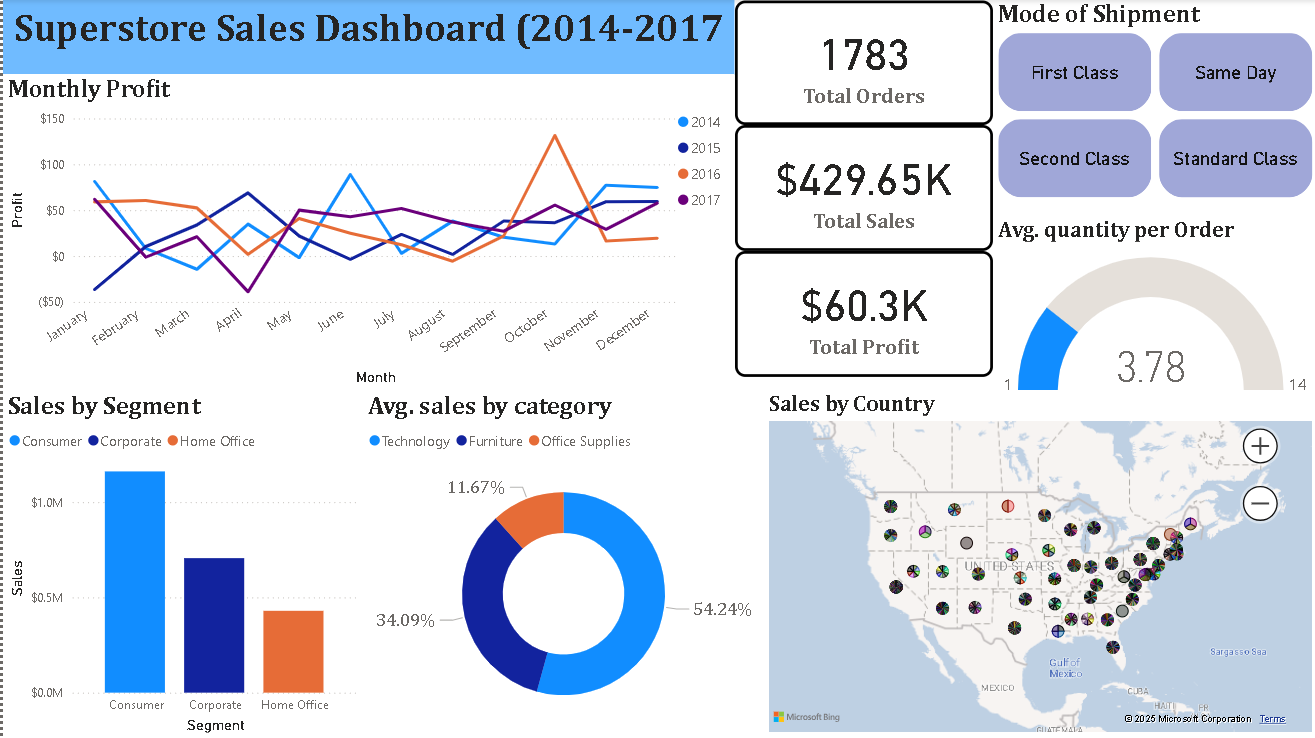

Layout of this report page (visuals, bound fields, positions):
{"tool":"tableau","page":{"name":"Dashboard 1","canvas":[1000,1000],"units":"permille","ordinal":0},"visuals":[{"type":"image","param":"C:/Users/user/Downloads/img2.png","box":[4.4,2.4,69,122.2]},{"type":"text","box":[81,29.3,388,72.1]},{"type":"worksheet","title":"Sheet 3","mark":"Area","rows":["QUANTITYORDERED"],"cols":["PRODUCTLINE"],"box":[644.9,147.9,332.9,359.4]},{"type":"worksheet","title":"Sheet 2","mark":"Bar","rows":["SALES"],"cols":["PRODUCTLINE"],"box":[1.9,156.5,339.9,380.2]},{"type":"worksheet","title":"Sheet 5","mark":"Pie","box":[342.4,156.5,271.5,374.1]},{"type":"legend","title":"Sheet 5","param":"[federated.0mjarep09fe74p18wxs9s0g3njy8].[none:PRODUCTLINE:nk]","box":[560.8,319.1,68.4,266.5]},{"type":"worksheet","title":"Sheet 4","mark":"Multipolygon","box":[646.8,542.8,332.9,382.6]},{"type":"worksheet","title":"Sheet 1","mark":"Line","rows":["SALES"],"cols":["MONTH_ID"],"box":[1.9,562.4,590.5,432.8]}]}

Visuals, with their boxes on the dashboard's canvas, which has no fixed pixel size, in thousandths of its width and height (x1, y1, x2, y2). These are canvas units, not pixel positions in the 1315x738 screenshot, which may show the page scaled, cropped or inside an application window:
image: [left=4, top=2, right=73, bottom=125]
text: [left=81, top=29, right=469, bottom=101]
"Sheet 3" worksheet (Area marks): [left=645, top=148, right=978, bottom=507]
"Sheet 2" worksheet (Bar marks): [left=2, top=156, right=342, bottom=537]
"Sheet 5" worksheet (Pie marks): [left=342, top=156, right=614, bottom=531]
"Sheet 5" legend: [left=561, top=319, right=629, bottom=586]
"Sheet 4" worksheet (Multipolygon marks): [left=647, top=543, right=980, bottom=925]
"Sheet 1" worksheet (Line marks): [left=2, top=562, right=592, bottom=995]
